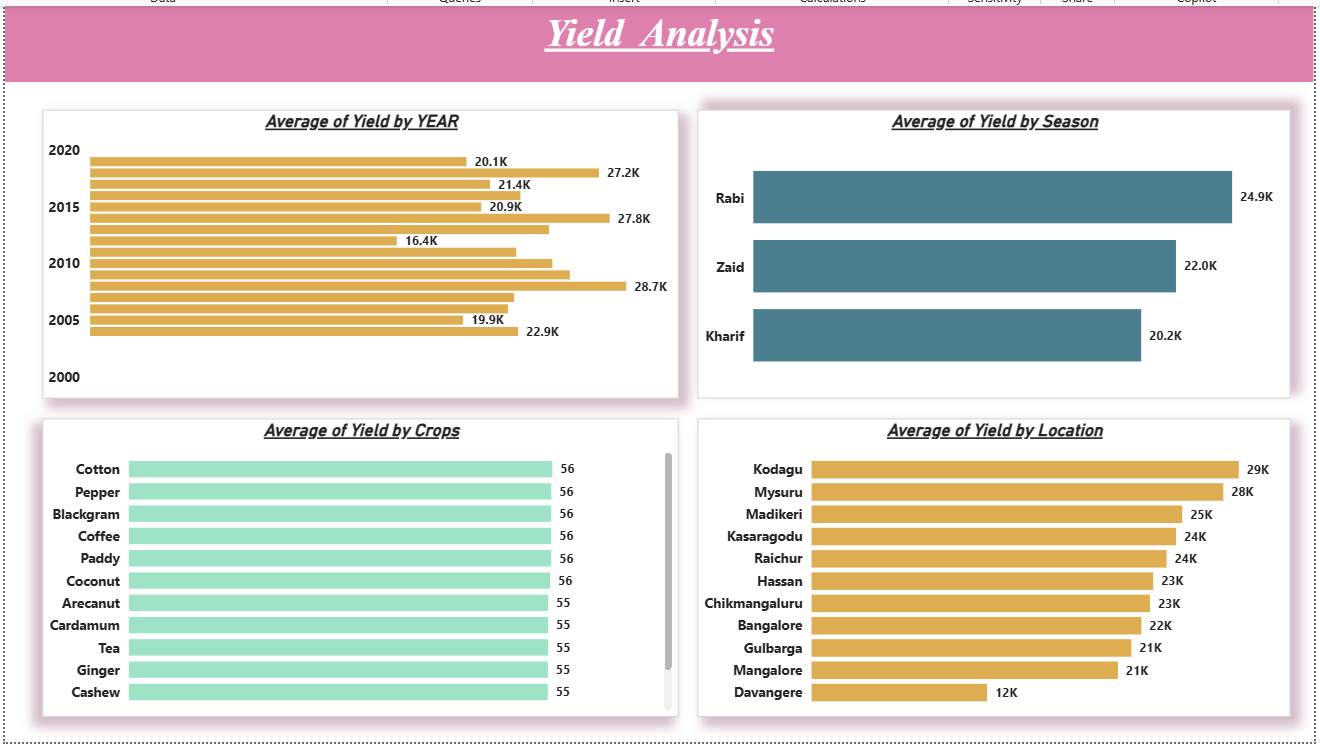

The page's visual inventory and layout, read from the dashboard file:
{"tool":"powerbi","page":{"name":"Yield Analysis","canvas":[1280,720],"ordinal":3},"visuals":[{"type":"textbox","box":[9.6,0,1270.7,74.1],"z":0},{"type":"textbox","box":[0,0,1280.3,74.1],"z":1000},{"type":"barChart","title":"Average of Yield  by YEAR","fields":{"Category":["AGRICULTURE.YEAR"],"Y":["Avg(AGRICULTURE.YIELDS)"]},"box":[36.9,101,622.4,282.5],"z":2000},{"type":"barChart","title":"Average of Yield by Season","fields":{"Category":["AGRICULTURE.SEASON"],"Y":["Avg(AGRICULTURE.YIELDS)"]},"box":[677,101,580.1,282.5],"z":3000},{"type":"barChart","title":"Average of Yield by Crops","fields":{"Category":["AGRICULTURE.CROPS"],"Y":["Avg(AGRICULTURE.HUMIDITY)"]},"box":[36.9,404,622.4,292.1],"z":4000},{"type":"barChart","title":"Average of Yield by Location","fields":{"Category":["AGRICULTURE.LOCATION"],"Y":["Avg(AGRICULTURE.YIELDS)"]},"box":[677,404,580.1,292.1],"z":5000}]}

Visuals, with their boxes on the page's 1280x720 design canvas (x1, y1, x2, y2). These are canvas units, not pixel positions in the 1320x747 screenshot, which may show the page scaled, cropped or inside an application window:
textbox: locate(10, 0, 1280, 74)
textbox: locate(0, 0, 1280, 74)
"Average of Yield  by YEAR" barChart: locate(37, 101, 659, 384)
"Average of Yield by Season" barChart: locate(677, 101, 1257, 384)
"Average of Yield by Crops" barChart: locate(37, 404, 659, 696)
"Average of Yield by Location" barChart: locate(677, 404, 1257, 696)
